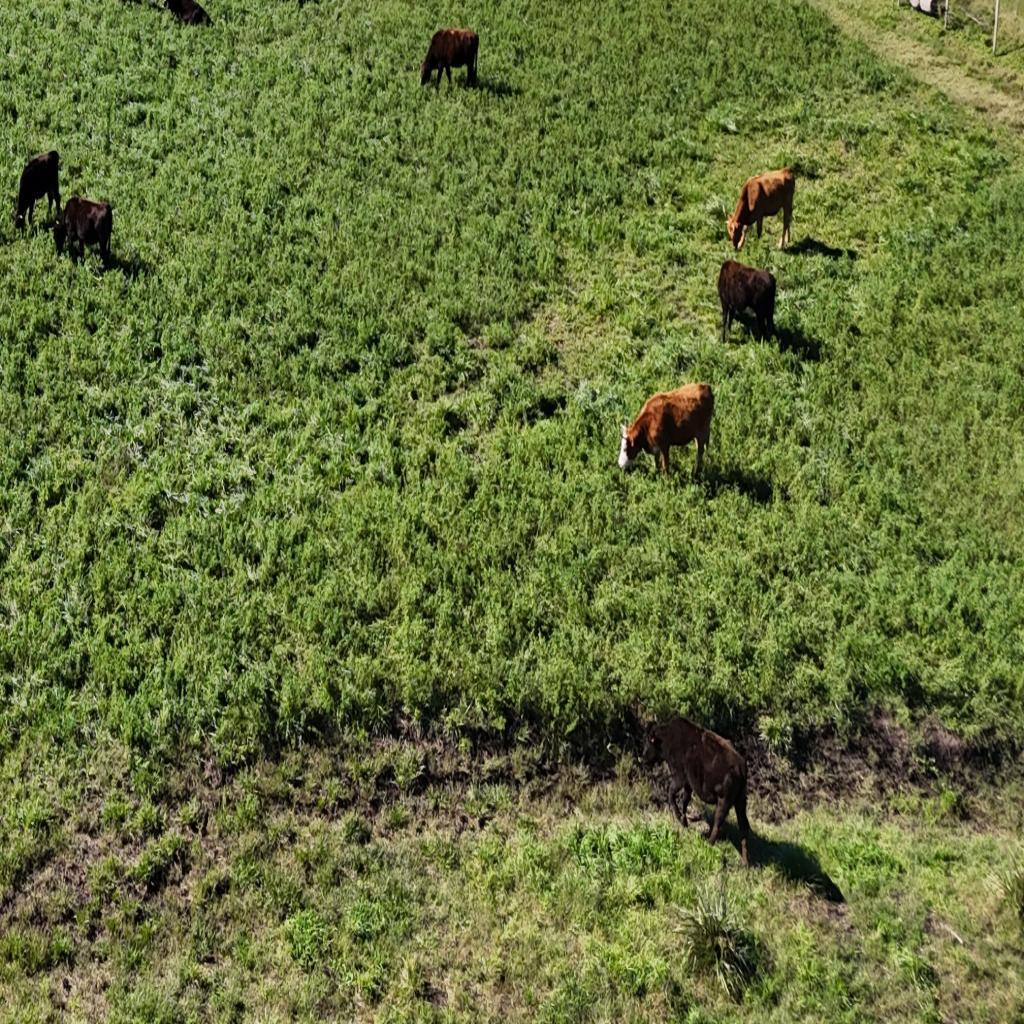cow: (644, 717, 752, 865), (619, 385, 712, 486), (724, 168, 796, 255), (716, 257, 777, 345), (54, 196, 114, 269), (13, 150, 61, 234), (420, 27, 480, 90), (160, 1, 212, 28), (13, 210, 25, 234)
